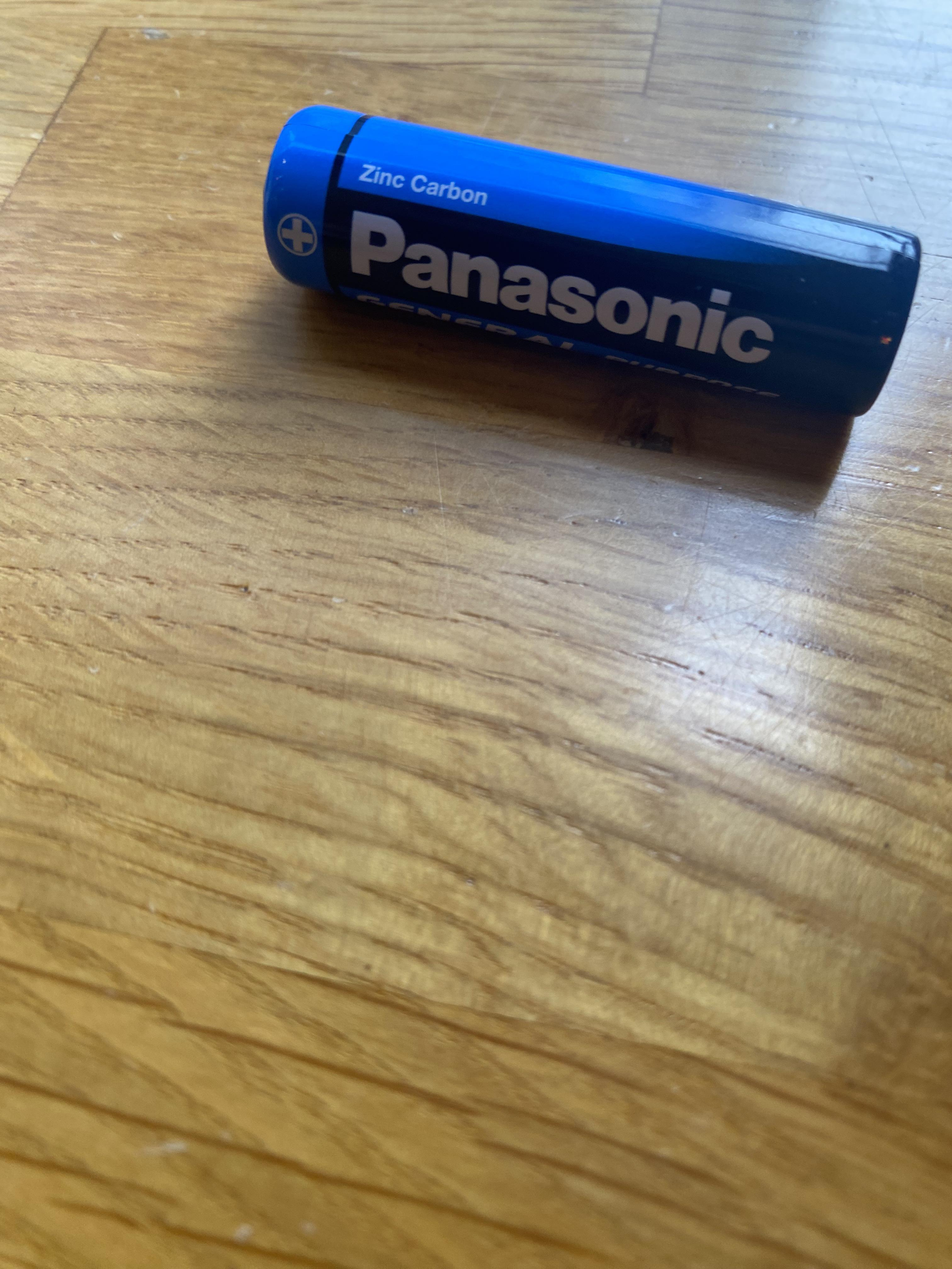AA: (258, 100, 930, 425)
